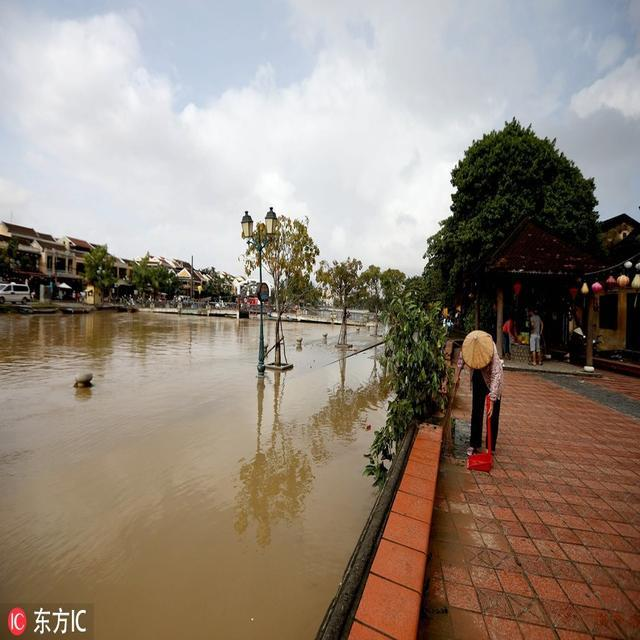Person-RiskLevel1: (440, 321, 531, 474)
